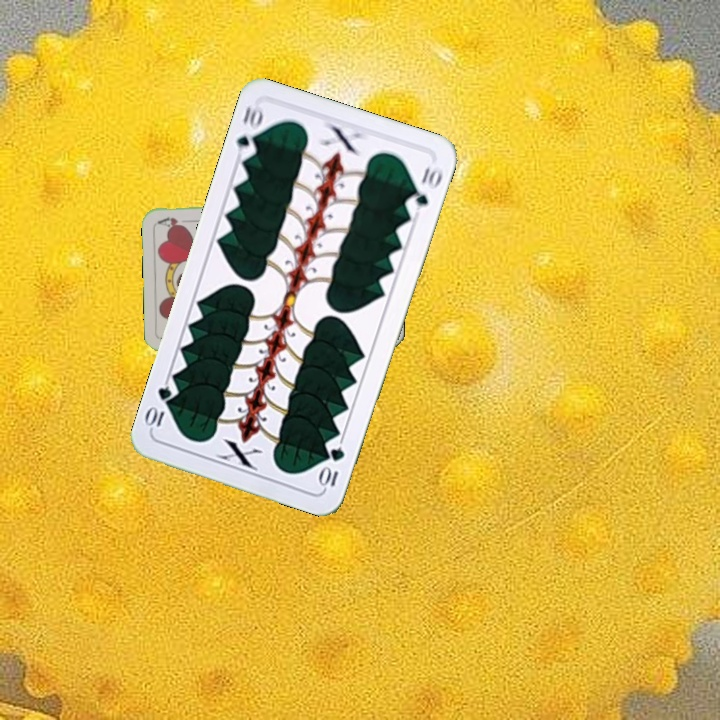G10: (232, 101, 266, 161), (316, 442, 348, 491)
